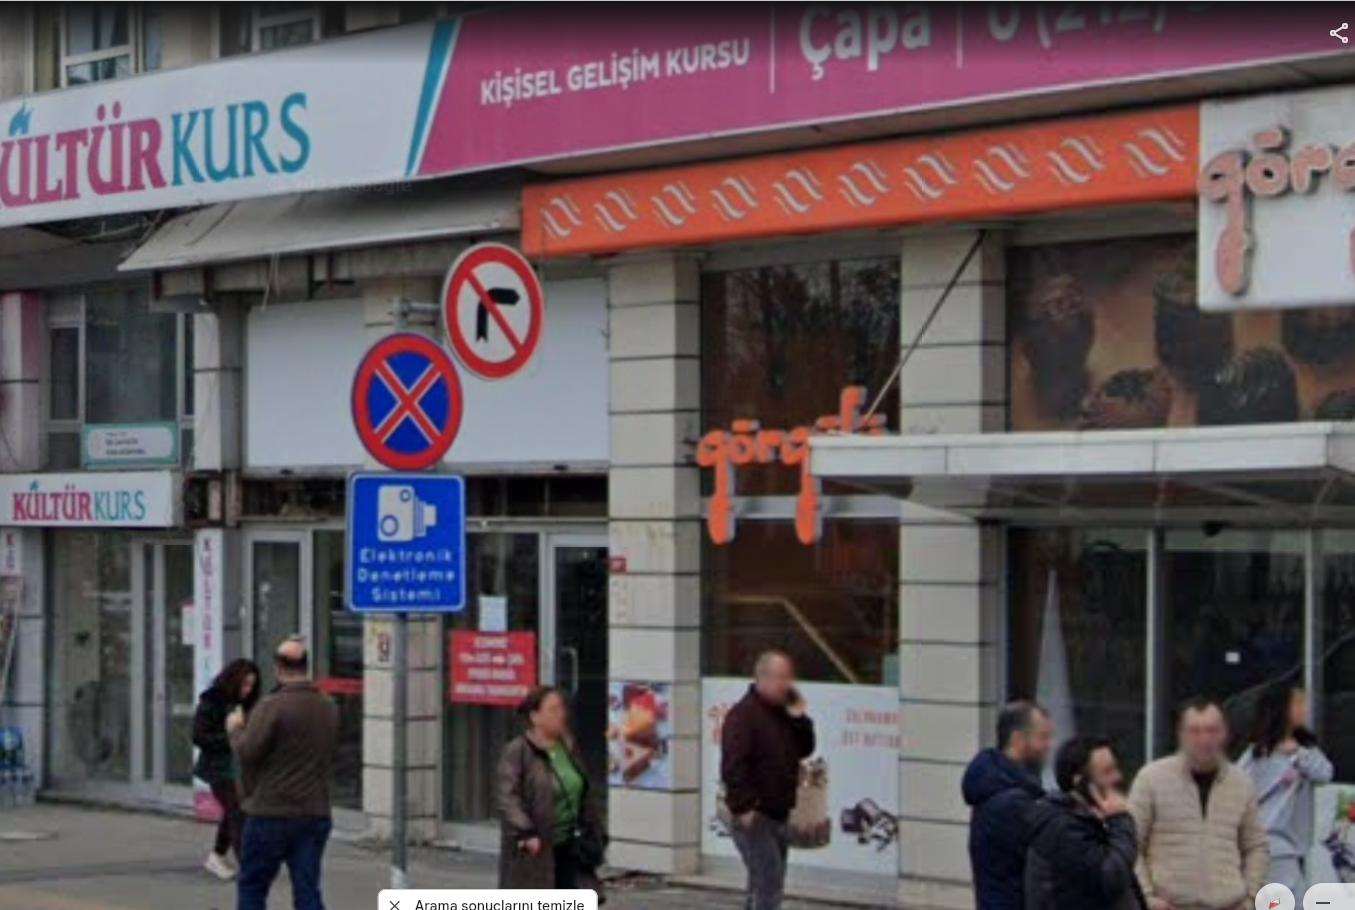rightturnsareforbidden: (450, 247, 536, 368)
